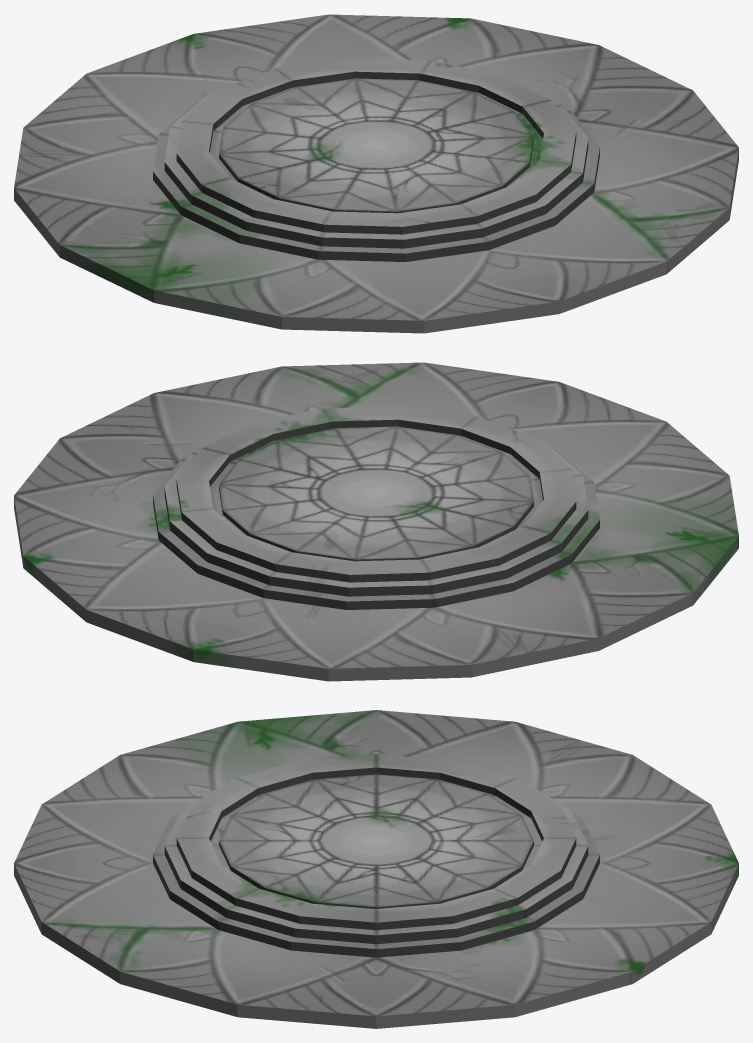
Rendered from bromodadali altar.fbx.
The picture shows the model from 3 angles, top to bottom: view 1: azimuth 30°, elevation 25°; view 2: azimuth 150°, elevation 25°; view 3: azimuth 270°, elevation 25°; orthographic projection.
Parts seen in each view (by area): view 1: Cylinder; view 2: Cylinder; view 3: Cylinder.
Boxes of the visible parts, x1,y1,x2,y2 form: Cylinder: (14, 14, 738, 333); Cylinder: (14, 362, 738, 681); Cylinder: (14, 710, 738, 1028).
Size of the model in its own units: 1326 by 75.67 by 1326.
